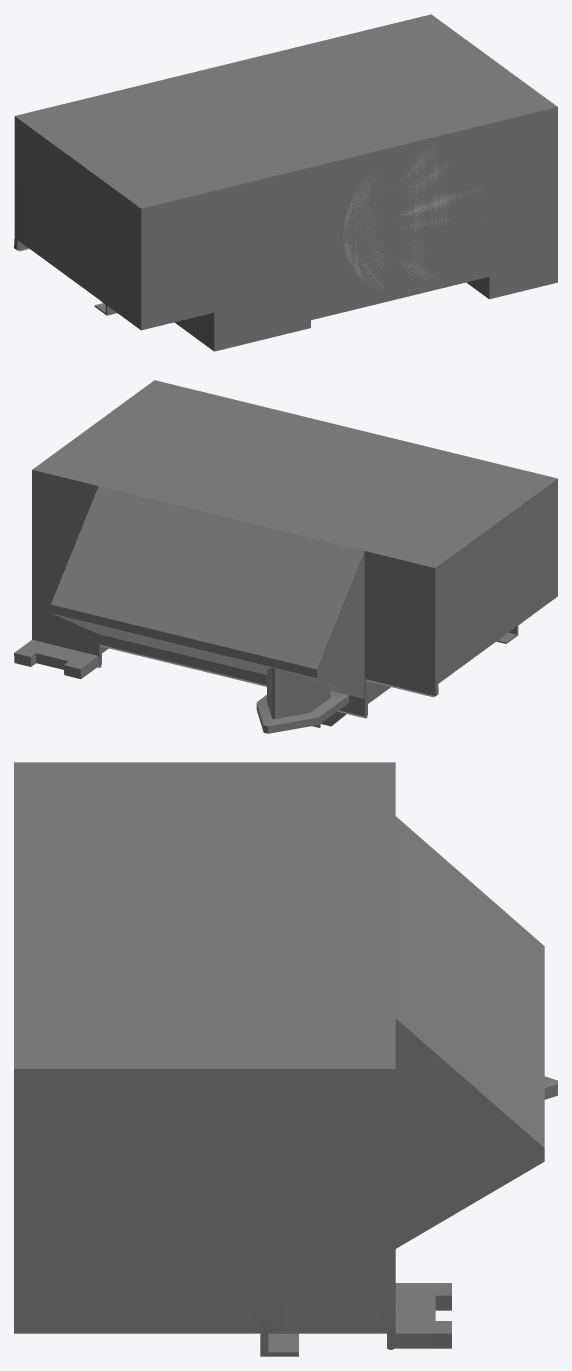
The model's file is Dom Glogieów.obj.
3 renders of one model, top to bottom at view 1: azimuth 30°, elevation 25°; view 2: azimuth 150°, elevation 25°; view 3: azimuth 270°, elevation 25°, orthographic. The views are drawn at different scales.
Parts seen in each view (by area): view 1: Dom_Glogierów_Cube.001; view 2: Dom_Glogierów_Cube.001; view 3: Dom_Glogierów_Cube.001.
Part boxes in pixels (x1,y1,x2,y2): Dom_Glogierów_Cube.001: (14,14,557,351); Dom_Glogierów_Cube.001: (14,380,557,733); Dom_Glogierów_Cube.001: (14,762,557,1356).
Size of the model in its own units: 35.76 by 15.79 by 26.78.
